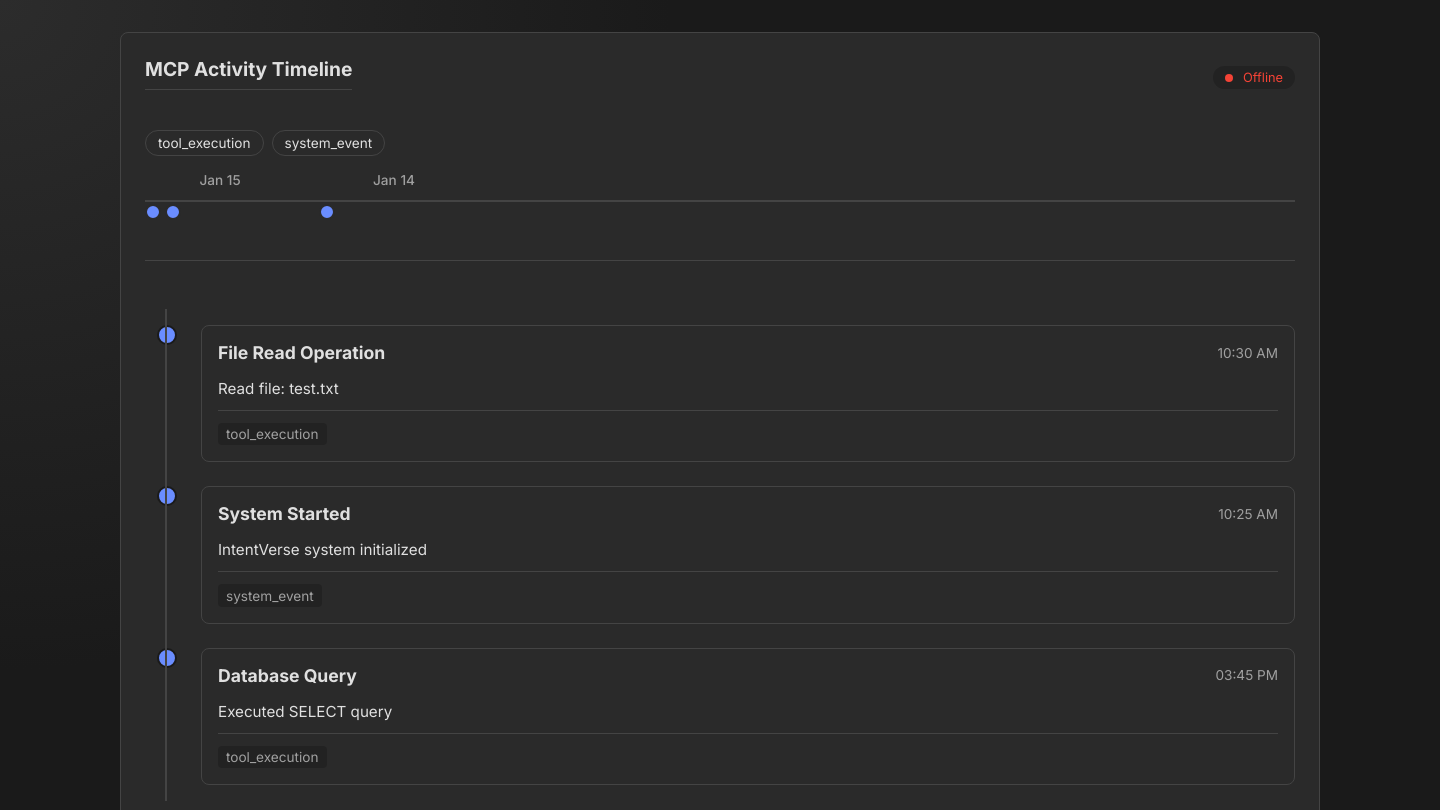
Test case: TimelinePage › Event Filtering › filters events by type when event type is clicked
Expected: the heading "File Read Operation" is shown, [218,342,385,363]
Expected: the heading "System Started" is shown, [218,503,351,524]
Click the 1st text with class "event-type" at (204, 143), box [145,130,264,156]
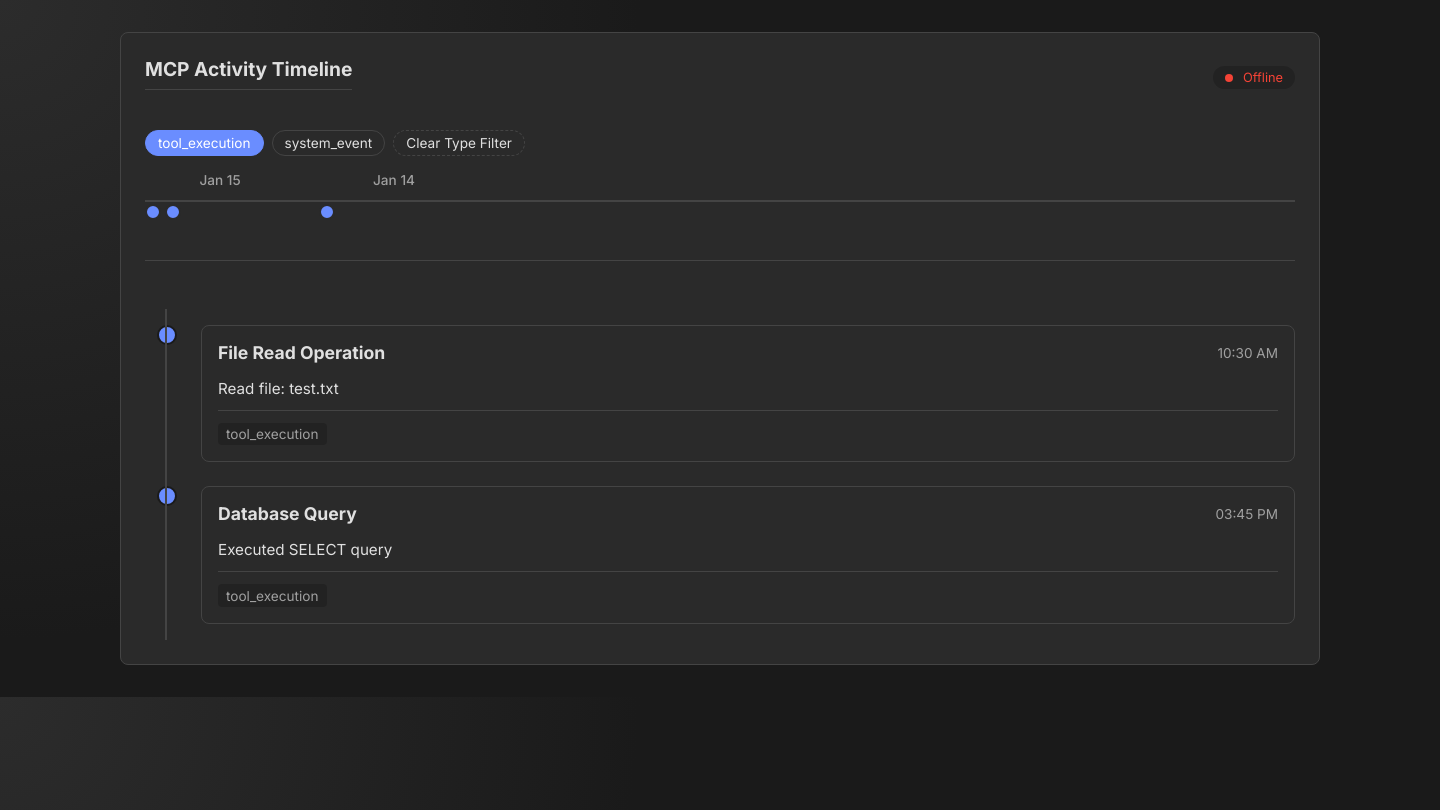
Expected: the heading "File Read Operation" is shown, [218,342,385,363]
Expected: the heading "System Started" is gone
